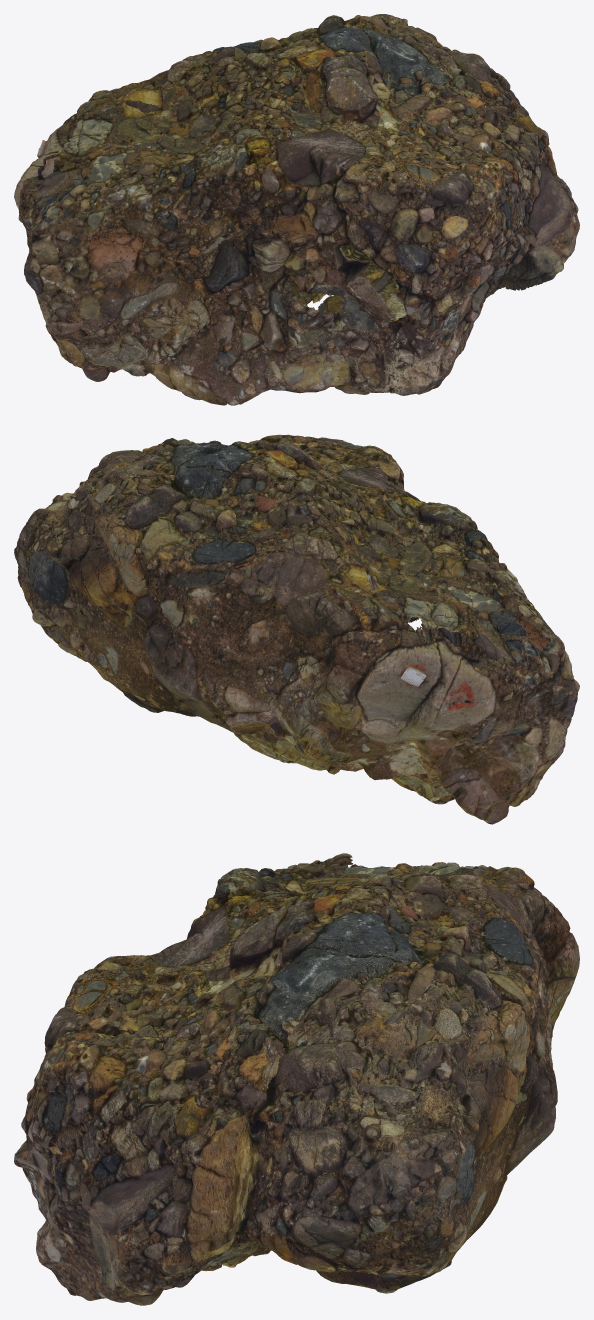
The model's file is conglomerate.glb.
3 views of the same model, one above another, from view 1: azimuth 30°, elevation 25°; view 2: azimuth 150°, elevation 25°; view 3: azimuth 270°, elevation 25° (orthographic). The views are drawn at different scales.
Visible parts, largest first — view 1: Object_4, Object_2, Object_6, Object_3, Object_5; view 2: Object_5, Object_4, Object_3, Object_6, Object_2; view 3: Object_3, Object_2, Object_6, Object_5, Object_4.
Part boxes in pixels (x1,y1,x2,y2): Object_4: [15, 55, 505, 405]; Object_2: [47, 14, 532, 395]; Object_6: [46, 15, 545, 405]; Object_3: [119, 27, 579, 385]; Object_5: [14, 14, 489, 394]; Object_5: [39, 448, 573, 821]; Object_4: [73, 478, 579, 804]; Object_3: [14, 453, 377, 771]; Object_6: [14, 439, 564, 824]; Object_2: [33, 434, 559, 824]; Object_3: [14, 874, 538, 1294]; Object_2: [49, 853, 553, 1272]; Object_6: [22, 864, 578, 1251]; Object_5: [14, 895, 579, 1305]; Object_4: [36, 862, 516, 1305].
Size of the model in its own units: 0.14 by 0.0811 by 0.0984.
Materials: 5 (5 with a texture image).
